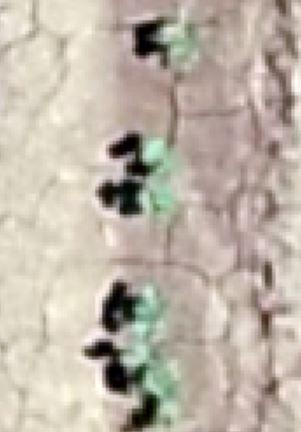cotton: (143, 367, 179, 401), (162, 25, 195, 60), (144, 142, 173, 173), (121, 344, 159, 365), (138, 289, 162, 316), (147, 188, 168, 211), (159, 407, 178, 430)
